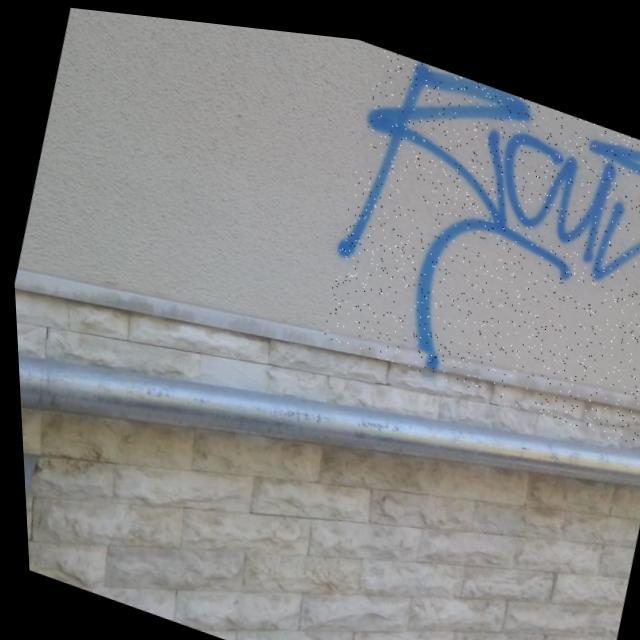-: (306, 32, 640, 440)
